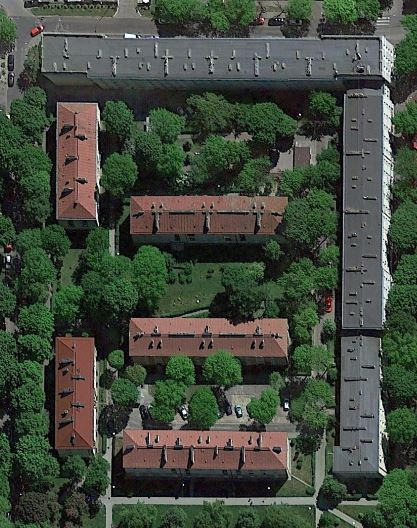block of flats: (329, 86, 395, 482), (37, 30, 398, 92), (119, 427, 295, 483), (124, 315, 295, 368), (125, 191, 292, 245), (52, 95, 103, 233), (48, 334, 103, 460)
